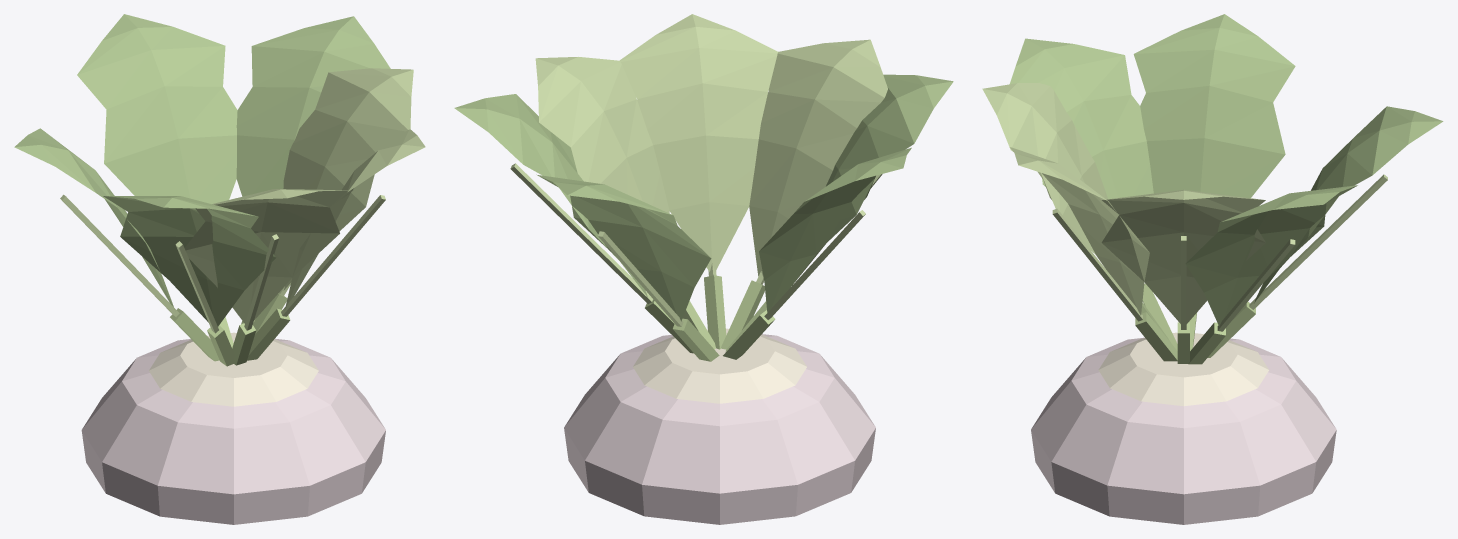
Rendered from crafted-crop-turnip-3.glb.
3 views of the same model, side by side, from view 1: azimuth 30°, elevation 25°; view 2: azimuth 150°, elevation 25°; view 3: azimuth 270°, elevation 25° (orthographic). The views are drawn at different scales.
Visible parts, largest first — view 1: root-shoulder, turnip-leaf-2, turnip-leaf-5, turnip-leaf, turnip-leaf-1, turnip-leaf-6, root-crown, turnip-leaf-4, turnip-leaf-3, leaf-vein-3, leaf-vein-4, leaf-stalk-3 (+5 smaller); view 2: root-shoulder, turnip-leaf-3, turnip-leaf-6, turnip-leaf, turnip-leaf-2, root-crown, turnip-leaf-4, turnip-leaf-1, turnip-leaf-5, leaf-vein-5, leaf-stalk-3, leaf-stalk-6 (+4 smaller); view 3: root-shoulder, turnip-leaf-4, turnip-leaf-1, turnip-leaf, turnip-leaf-5, root-crown, turnip-leaf-6, turnip-leaf-2, turnip-leaf-3, leaf-vein-2, leaf-vein-3, leaf-vein-5 (+5 smaller).
Boxes of the visible parts, <box> form: root-shoulder: <box>81,338,385,524</box>; turnip-leaf-2: <box>77,14,237,203</box>; turnip-leaf-5: <box>236,16,390,196</box>; turnip-leaf: <box>283,68,413,290</box>; turnip-leaf-1: <box>103,196,276,326</box>; turnip-leaf-6: <box>184,189,352,323</box>; root-crown: <box>149,332,318,406</box>; turnip-leaf-4: <box>14,128,174,309</box>; turnip-leaf-3: <box>284,129,425,310</box>; leaf-vein-3: <box>281,195,385,316</box>; leaf-vein-4: <box>60,194,179,316</box>; leaf-stalk-3: <box>247,308,290,360</box>; root-shoulder: <box>564,334,875,524</box>; turnip-leaf-3: <box>619,14,777,271</box>; turnip-leaf-6: <box>749,39,887,278</box>; turnip-leaf: <box>535,57,669,213</box>; turnip-leaf-2: <box>536,174,711,321</box>; root-crown: <box>633,328,806,403</box>; turnip-leaf-4: <box>759,147,911,313</box>; turnip-leaf-1: <box>825,74,953,244</box>; turnip-leaf-5: <box>454,94,647,297</box>; leaf-vein-5: <box>510,163,653,304</box>; leaf-stalk-3: <box>704,275,726,349</box>; leaf-stalk-6: <box>721,280,765,349</box>; root-shoulder: <box>1031,337,1336,524</box>; turnip-leaf-4: <box>1133,14,1295,197</box>; turnip-leaf-1: <box>1010,38,1153,199</box>; turnip-leaf: <box>1101,189,1265,323</box>; turnip-leaf-5: <box>1185,185,1357,326</box>; root-crown: <box>1098,332,1268,406</box>; turnip-leaf-6: <box>982,83,1107,255</box>; turnip-leaf-2: <box>1254,106,1443,303</box>; turnip-leaf-3: <box>1009,147,1149,315</box>; leaf-vein-2: <box>1249,174,1387,309</box>; leaf-vein-3: <box>1052,208,1142,321</box>; leaf-vein-5: <box>1217,239,1295,331</box>.
Size of the model in its own units: 0.5017 by 0.43 by 0.5129.
